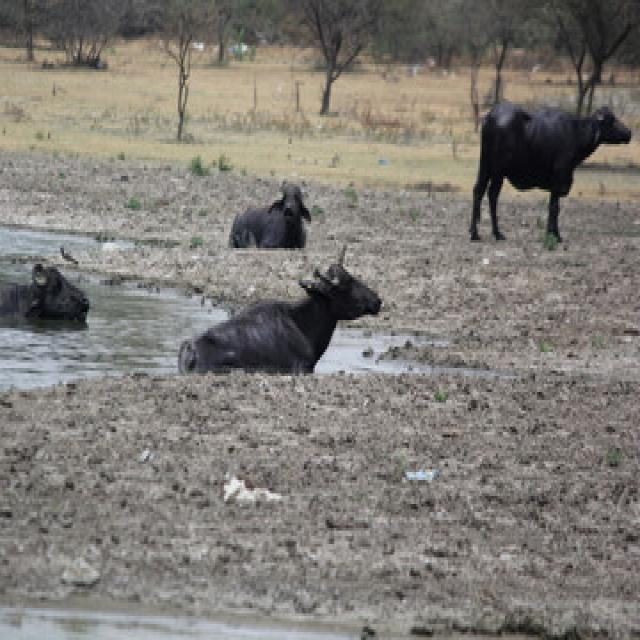Buffalo: (467, 92, 634, 245), (176, 255, 385, 371), (229, 179, 319, 248)
